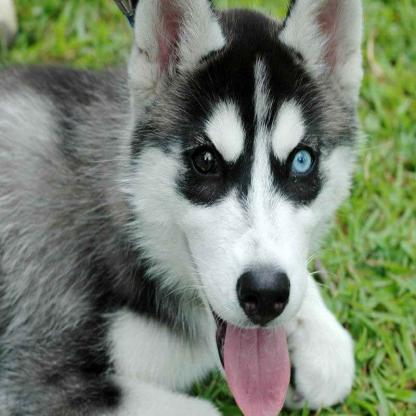dog: (0, 0, 385, 416)
